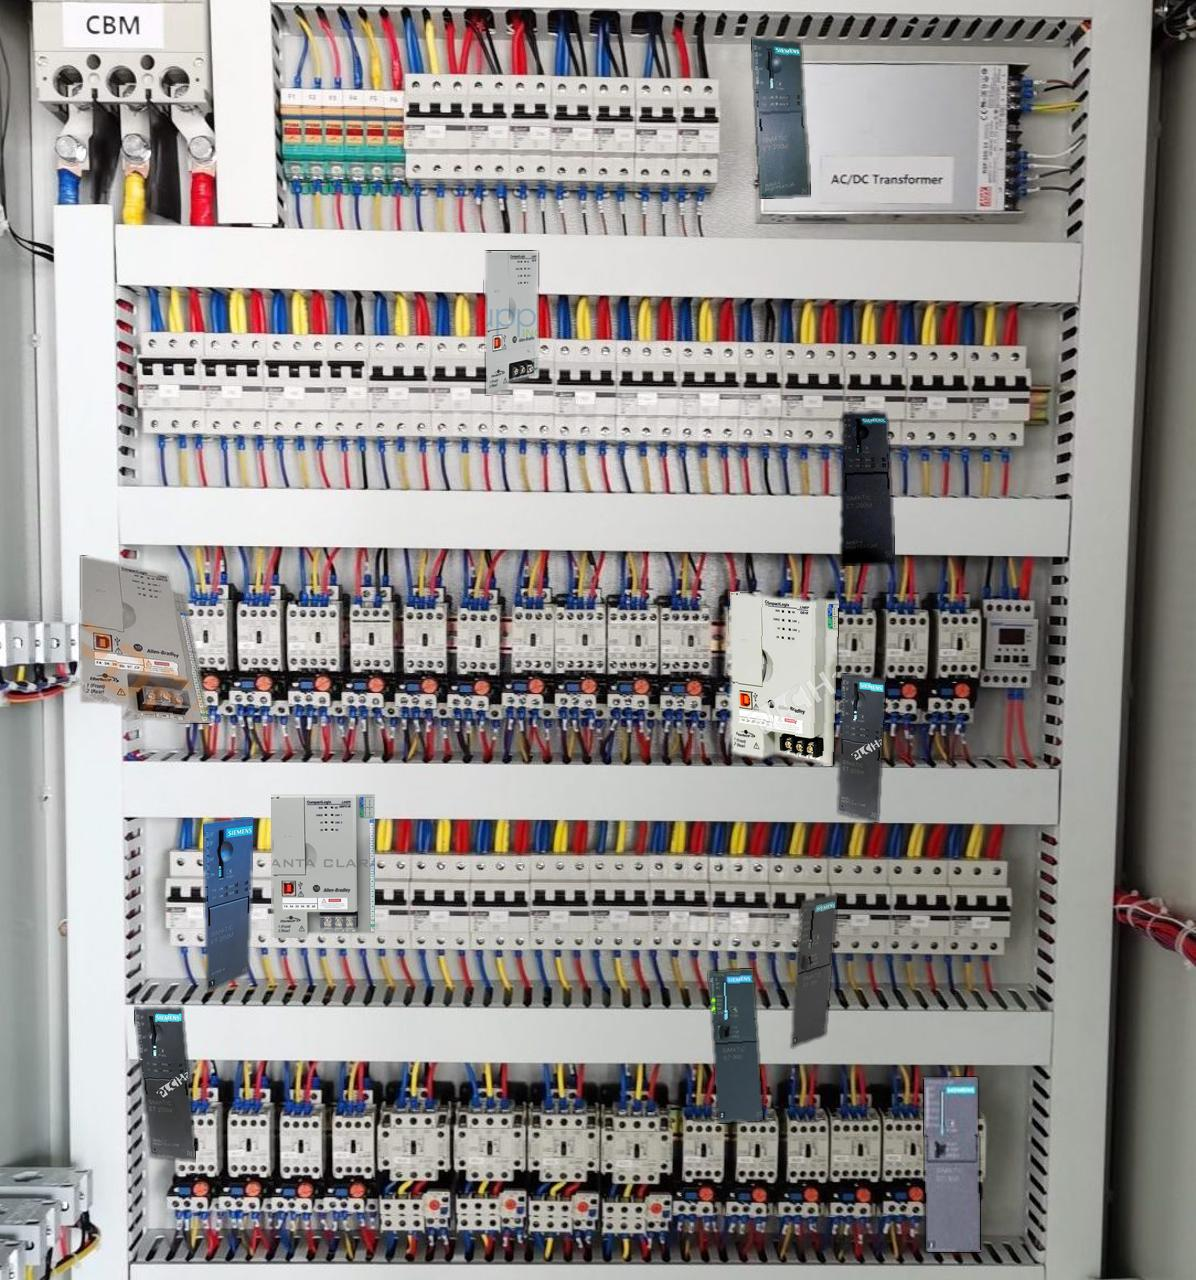AllenBradley: (81, 556, 209, 721), (730, 592, 839, 765), (271, 795, 374, 937), (484, 251, 537, 394)
Siemens: (923, 1077, 980, 1251), (709, 969, 762, 1122), (791, 895, 837, 1047)
